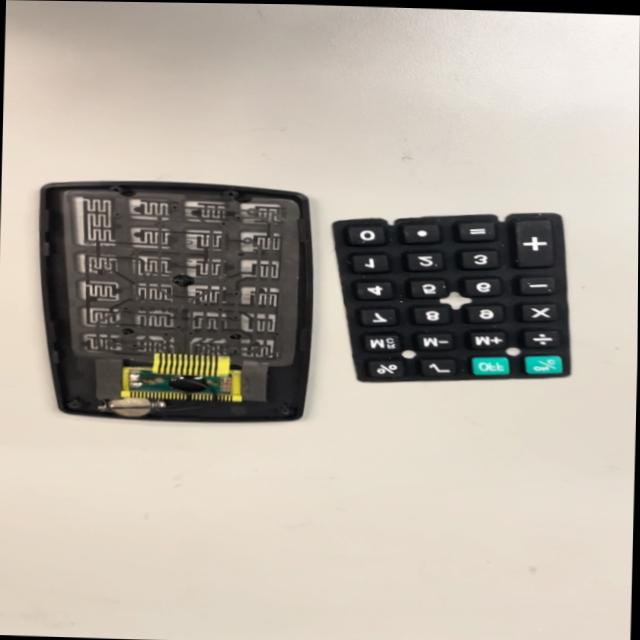front_panel: (23, 173, 312, 430)
number_pad: (328, 198, 582, 396)
